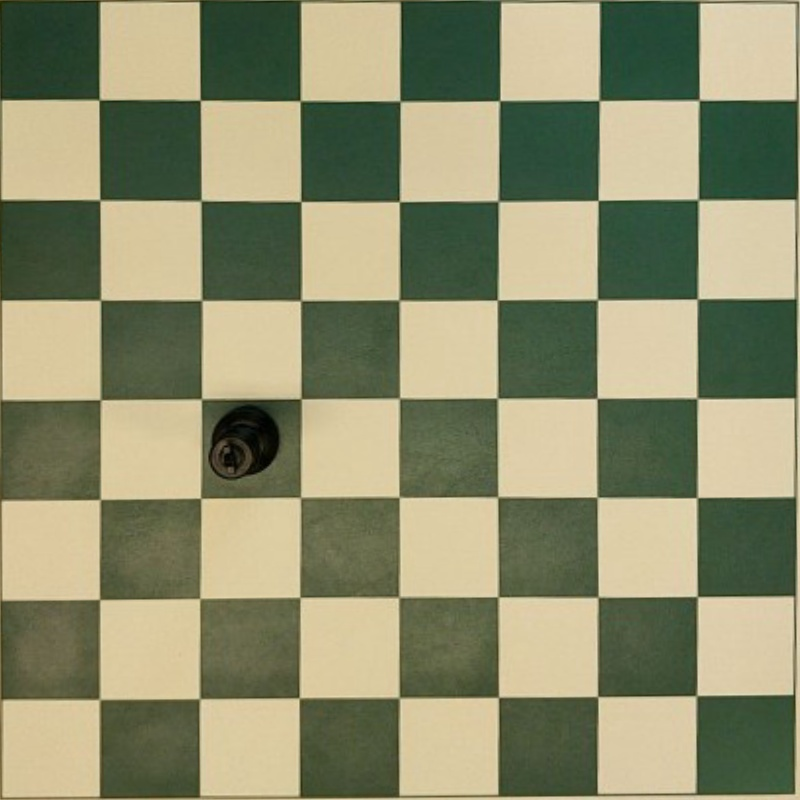black-king: (205, 404, 279, 480)
